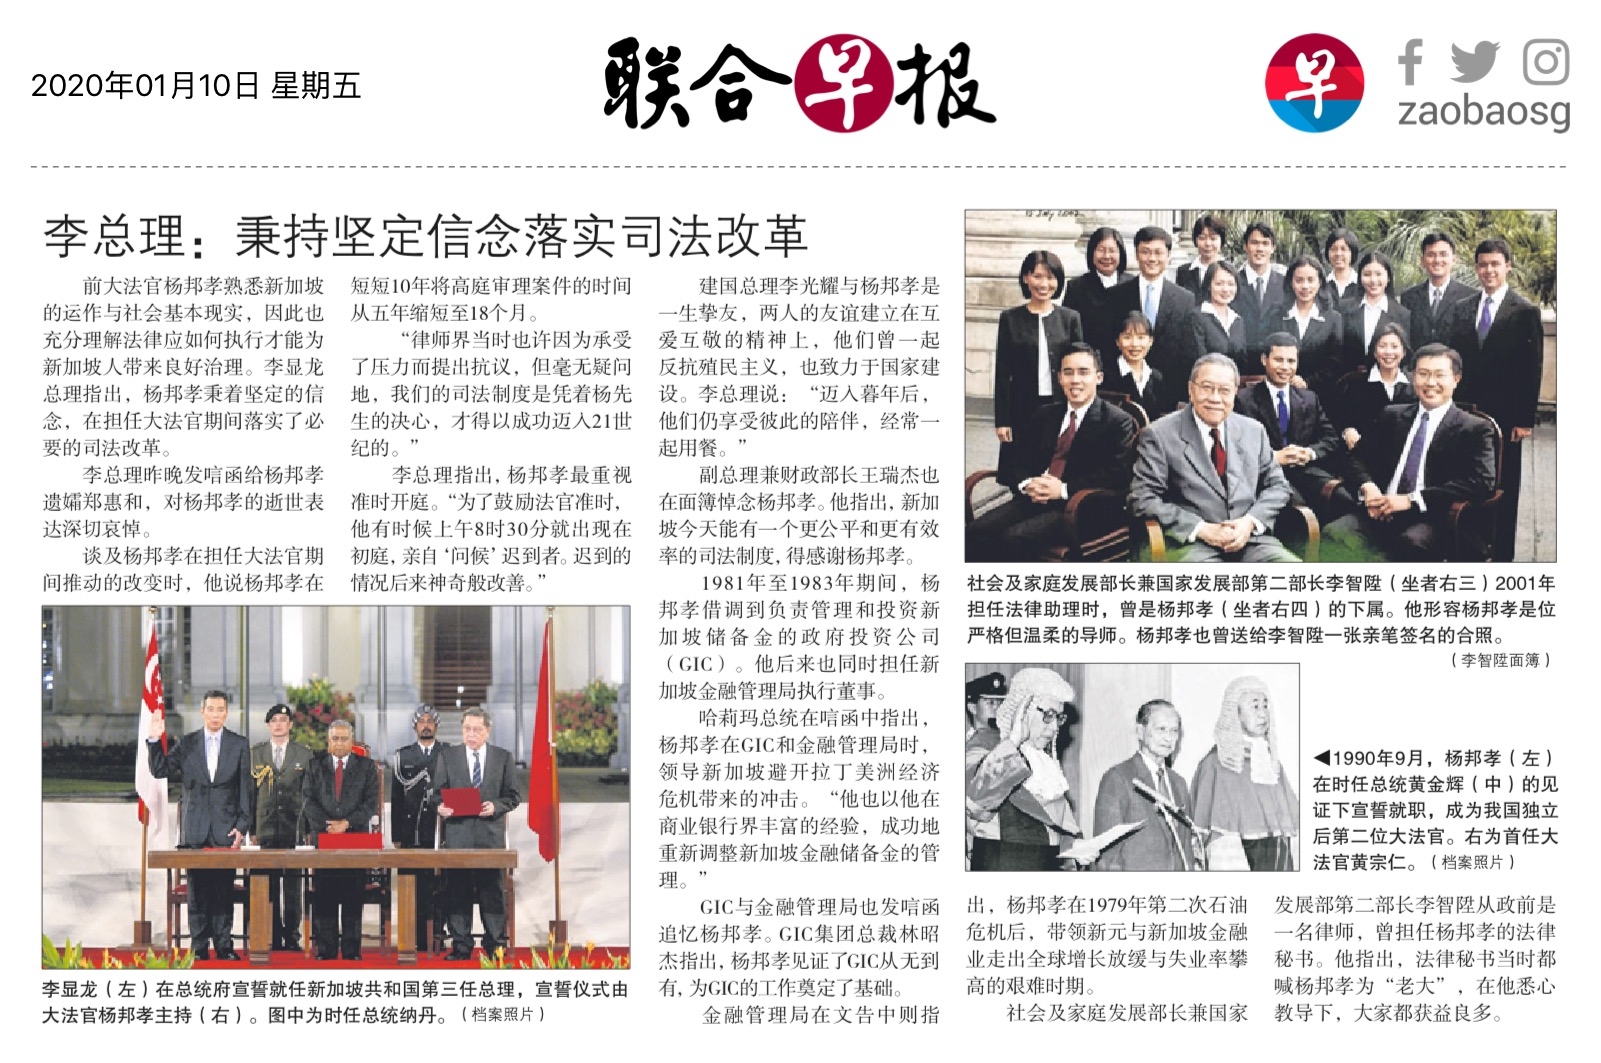heading: (34, 197, 815, 265)
